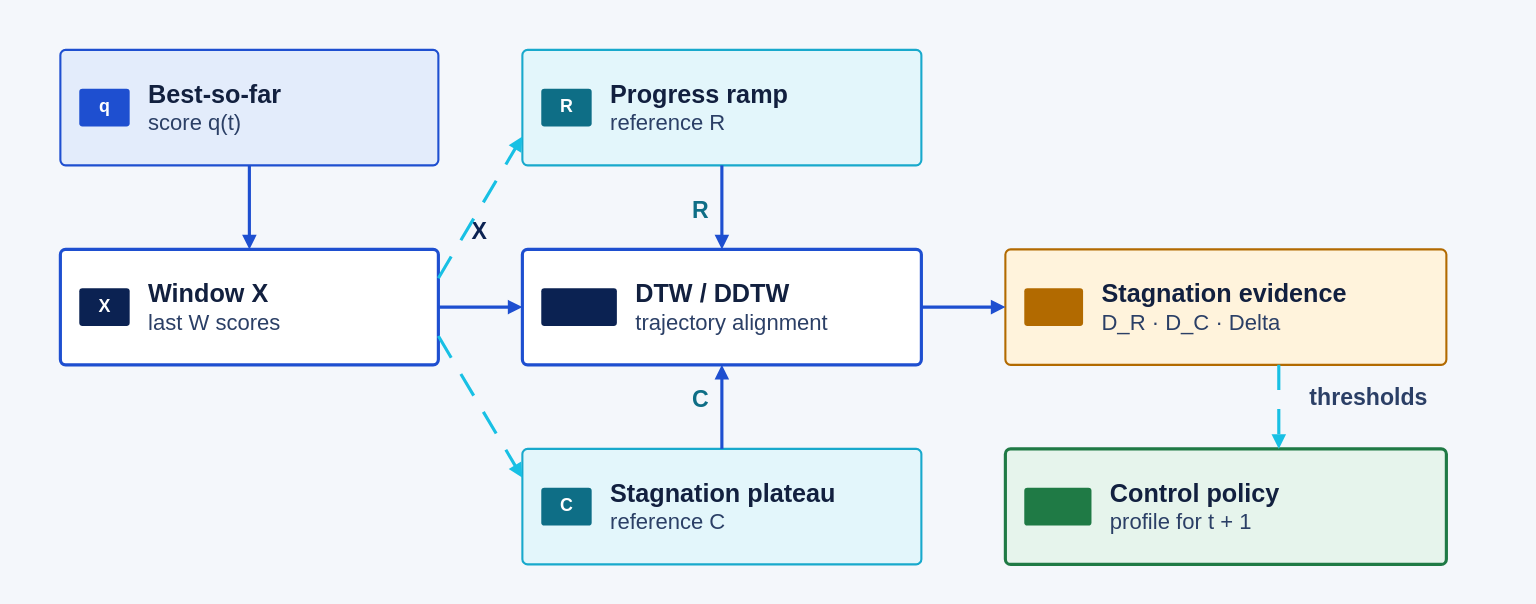
Some shapes in this 1536 by 604 pixel diagram are drawn without their labels. The centre of each missing label's shape, as x and y in pixels:
"DTW" goes at point 578,307.
"EV" goes at point 1053,307.
"t+1" goes at point 1057,506.
